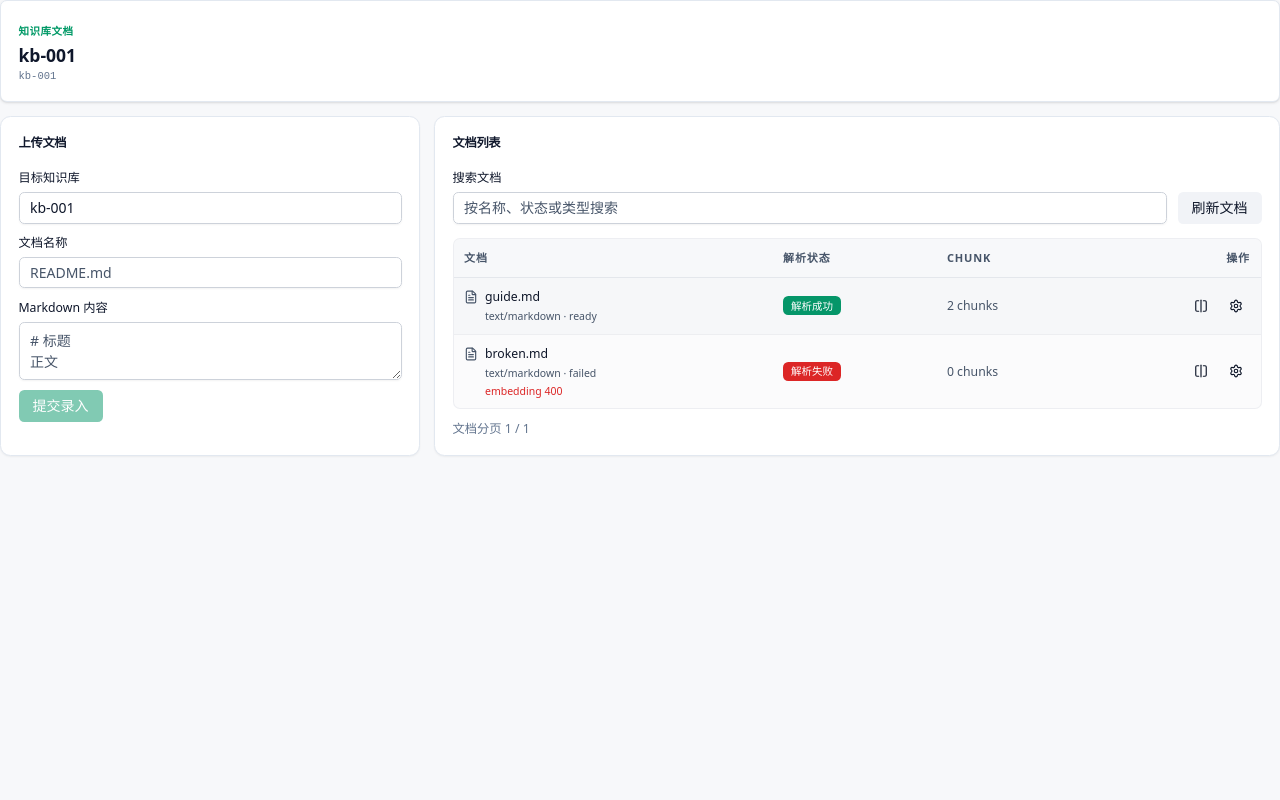
Test: knowledge base pages › renders detail document panels
Expected: the field showing "kb-001" is shown, [18, 192, 402, 224]
Expected: the text "目标知识库" is shown, [18, 169, 80, 186]
Click the button named "查看 guide.md 的 Chunk" at (1201, 306), box [1187, 292, 1215, 320]
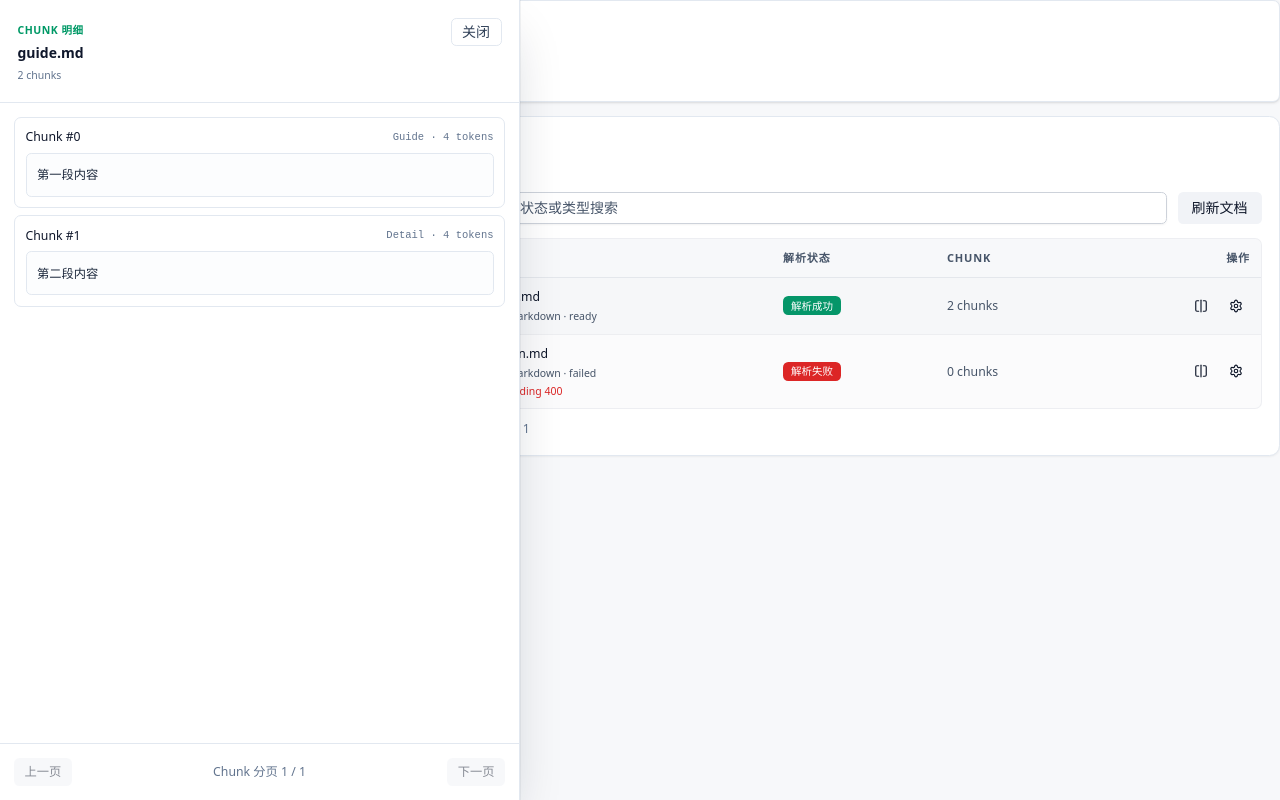
Expected: the dialog named "guide.md Chunk 明细" is shown, [0, 0, 520, 799]
Expected: the text "Chunk #0" is shown, [26, 128, 81, 146]
Expected: the text "第一段内容" is shown, [37, 166, 98, 183]
Click the button named "查看 guide.md 的分块配置" at (1236, 306), box [1222, 292, 1250, 320]
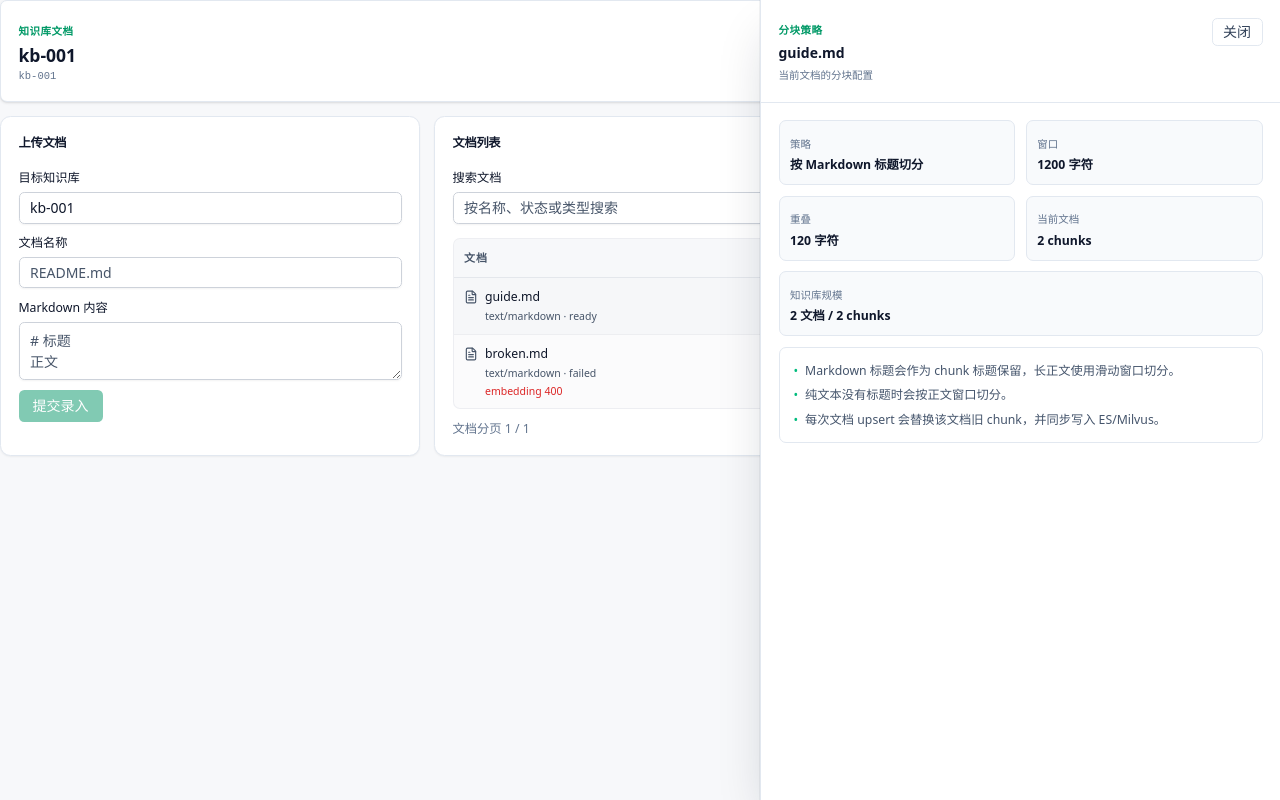
Expected: the text "分块策略" is shown, [778, 22, 823, 36]
Expected: the text "按 Markdown 标题切分" is shown, [790, 156, 923, 173]
